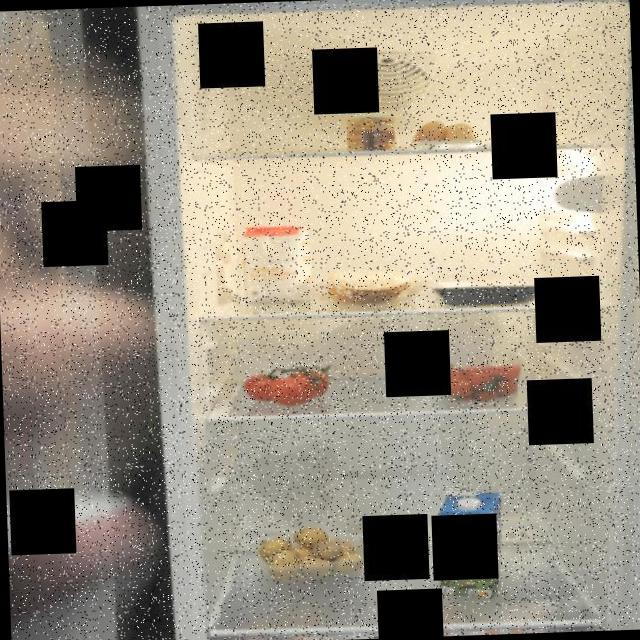Huevos: (410, 116, 480, 145)
Leche: (435, 484, 508, 602)
Patata: (256, 524, 368, 580)
Tomate: (243, 364, 336, 406)
